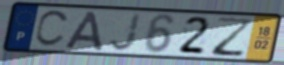2: (175, 15, 213, 56)
6: (141, 12, 177, 56)
A: (62, 10, 105, 52)
C: (33, 9, 72, 49)
J: (107, 12, 143, 53)
Z: (211, 16, 255, 59)
